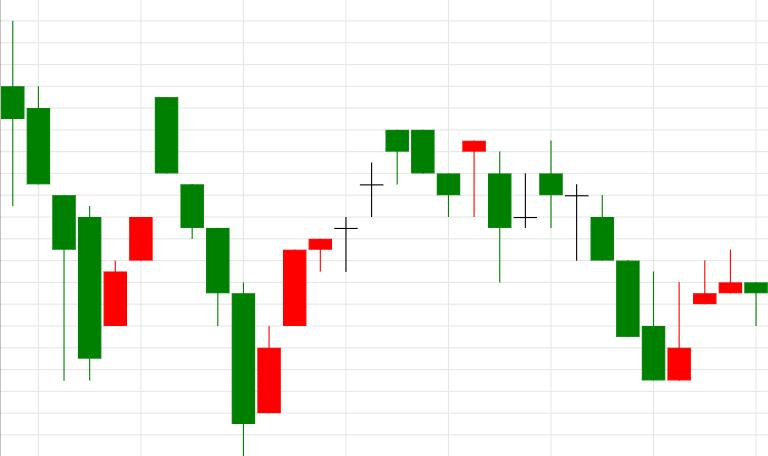inverse_hammer_rise: (539, 141, 691, 381)
three_black_crows_fall: (104, 96, 254, 456)
